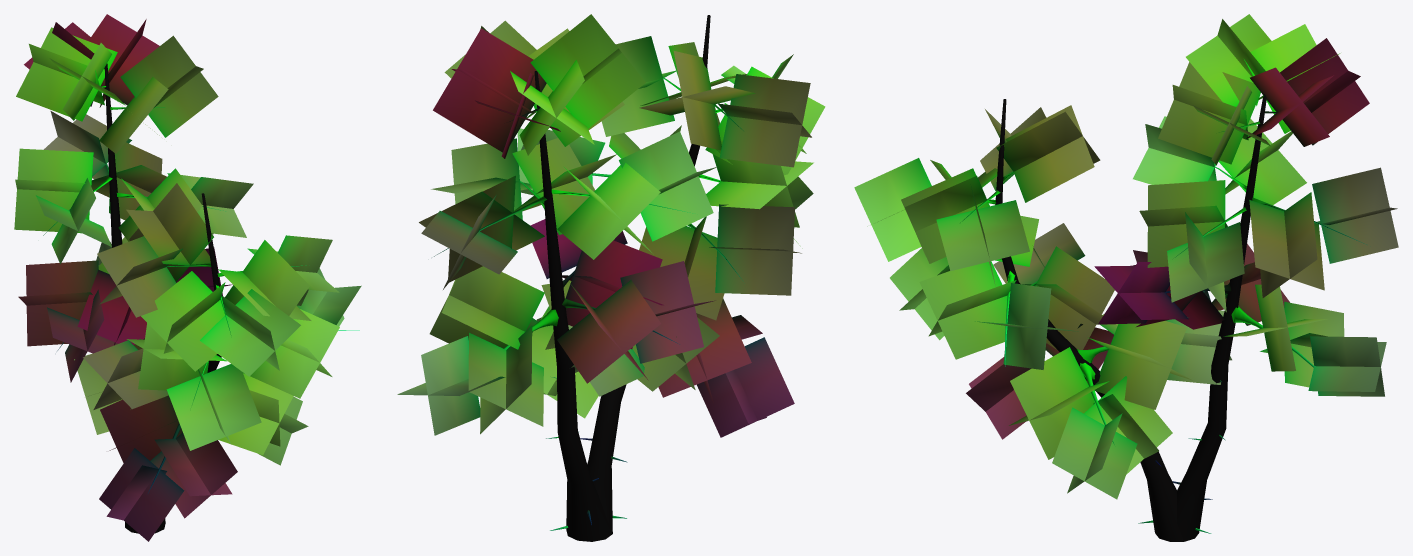
Rendered from URP_P7_Tree_7_LOD_2.fbx.
3 renders of one model, left to right at view 1: azimuth 30°, elevation 25°; view 2: azimuth 150°, elevation 25°; view 3: azimuth 270°, elevation 25°, orthographic. The views are drawn at different scales.
Visible parts, largest first — view 1: Tree_7_LOD_2; view 2: Tree_7_LOD_2; view 3: Tree_7_LOD_2.
Boxes of the visible parts, left/top/right/bottom form: Tree_7_LOD_2: left=14, top=14, right=361, bottom=541; Tree_7_LOD_2: left=397, top=14, right=825, bottom=541; Tree_7_LOD_2: left=854, top=14, right=1398, bottom=541.
Size of the model in its own units: 240 by 422 by 415.
